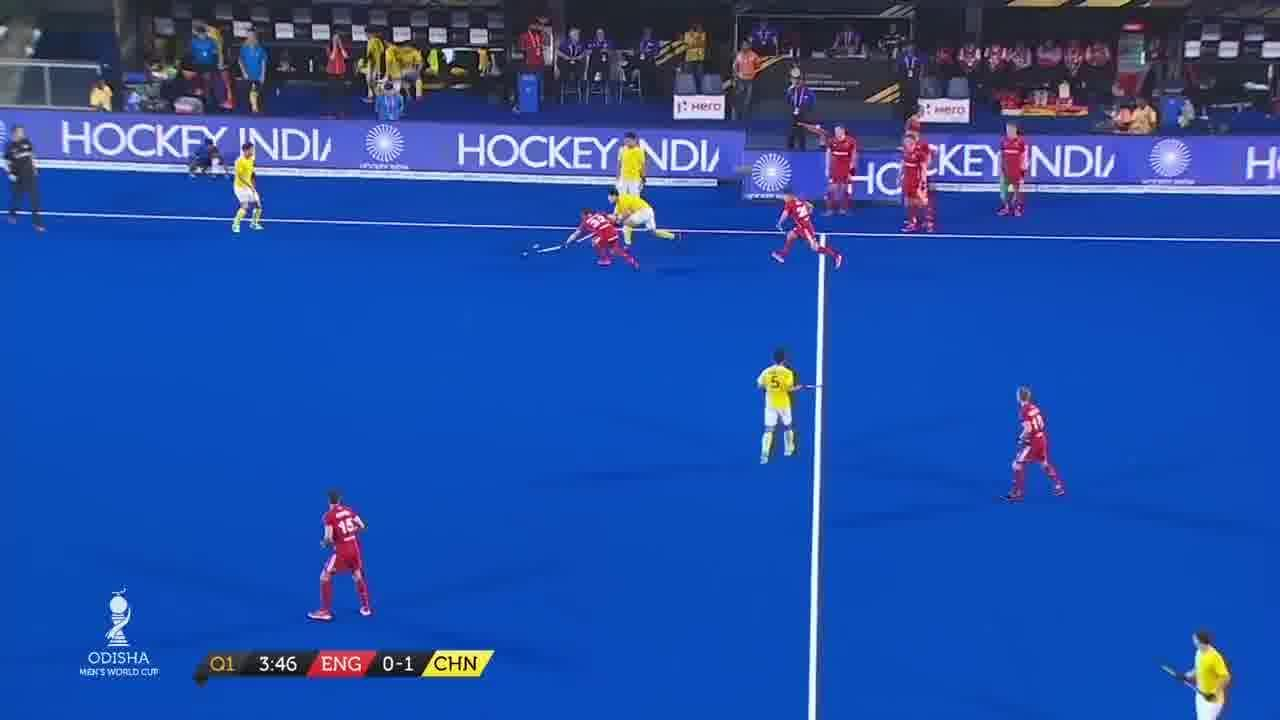ball: (518, 245, 533, 260)
